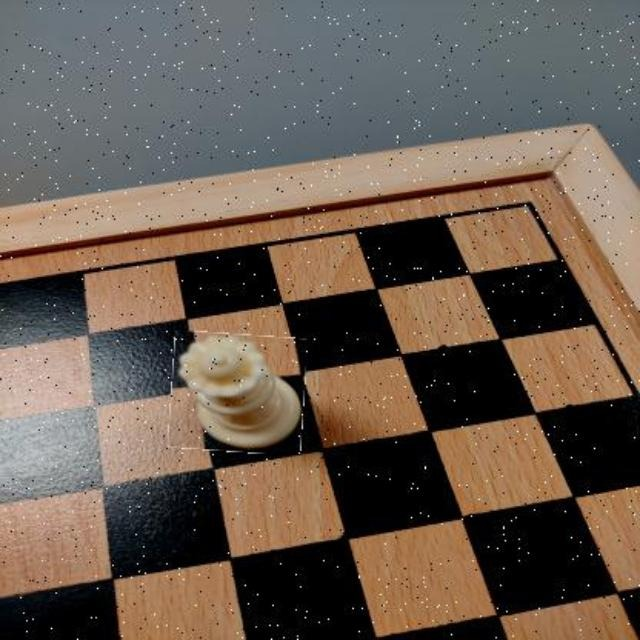white-queen: (170, 332, 305, 453)
